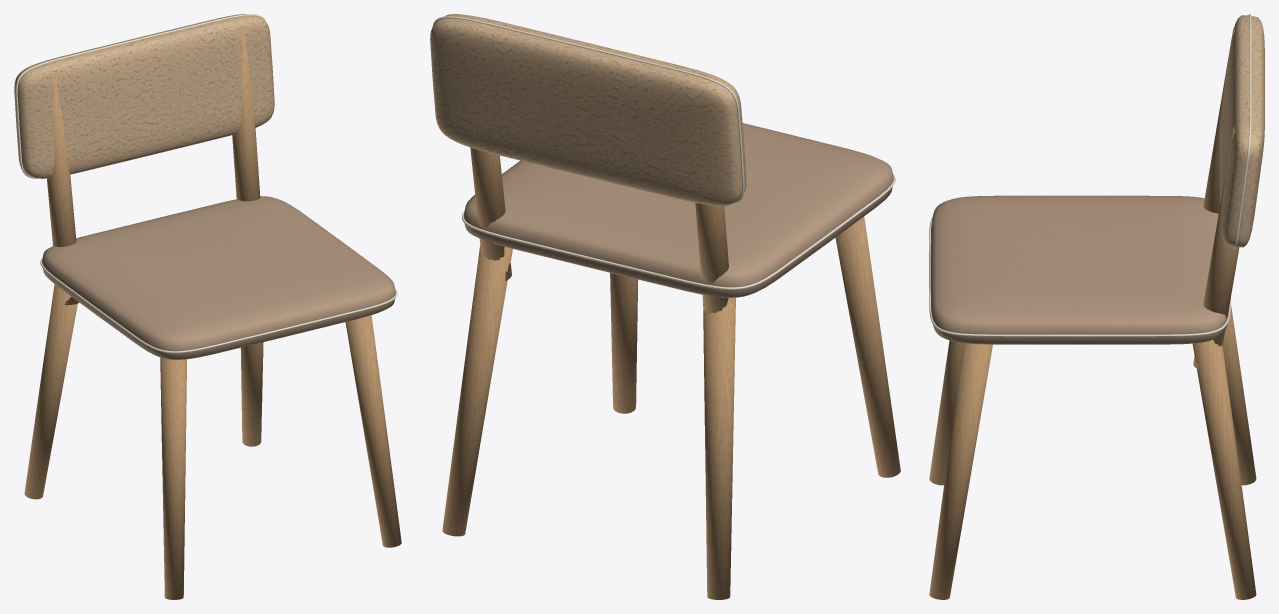
The model's file is scandinavian.dining_chair.gltf.
3 renders of one model, left to right at view 1: azimuth 30°, elevation 25°; view 2: azimuth 150°, elevation 25°; view 3: azimuth 270°, elevation 25°, orthographic. The views are drawn at different scales.
Parts seen in each view (by area): view 1: scandinavian.dining_chair.leg; view 2: scandinavian.dining_chair.leg; view 3: scandinavian.dining_chair.leg.
Boxes of the visible parts, x1,y1,x2,y2 form: scandinavian.dining_chair.leg: (14,14,401,599); scandinavian.dining_chair.leg: (430,14,900,599); scandinavian.dining_chair.leg: (929,14,1264,599).
Size of the model in its own units: 0.4897 by 0.7936 by 0.5156.
4 materials, 3 textured.
